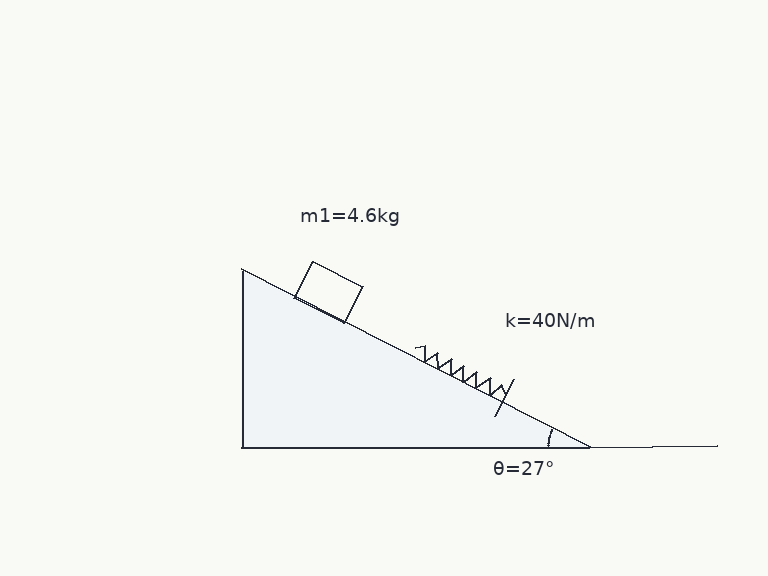block: (292, 259, 364, 325)
ramp: (239, 268, 590, 449)
spring: (413, 344, 507, 397)
